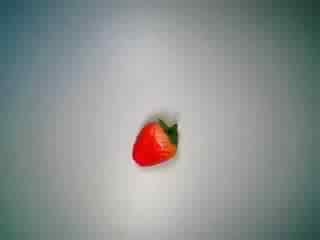strawberry: (123, 111, 185, 175)
